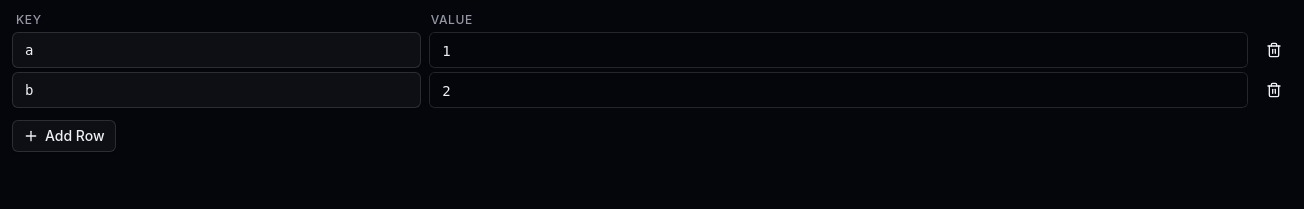
Scenario: SecretDataGrid › shows duplicate key error
Replace the text in the 2nd field with placeholder "key" with "a": (217, 90) [12,72,421,108]
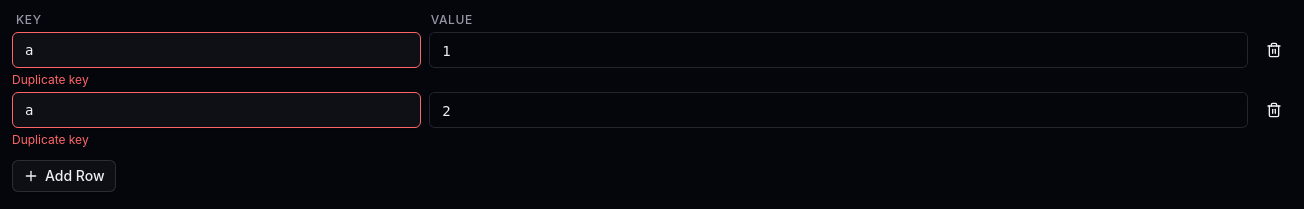
Expected: the text "Duplicate key" is shown 2 times, [12,72,89,87]; [12,132,89,147]
